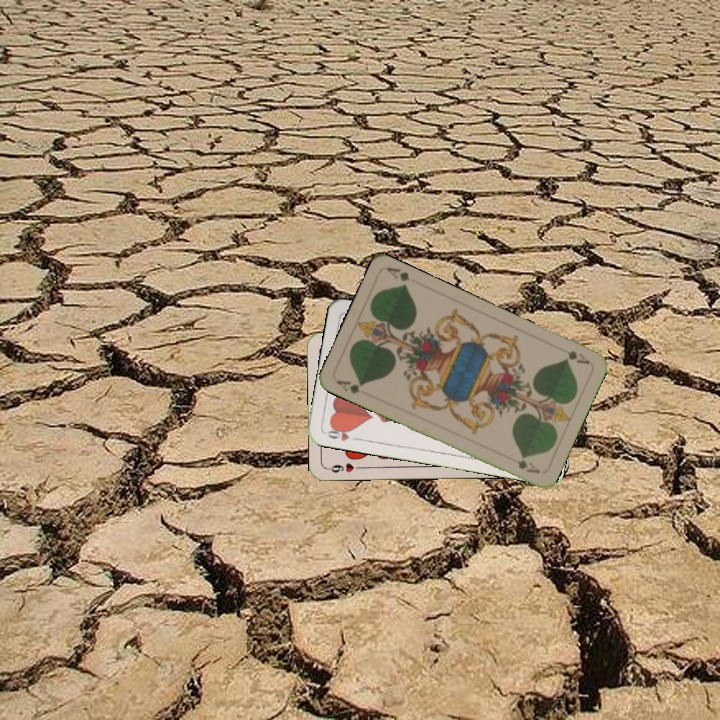GA: (333, 376, 365, 397), (561, 346, 593, 367)
H9: (323, 459, 364, 475)
HO: (322, 423, 362, 444)
